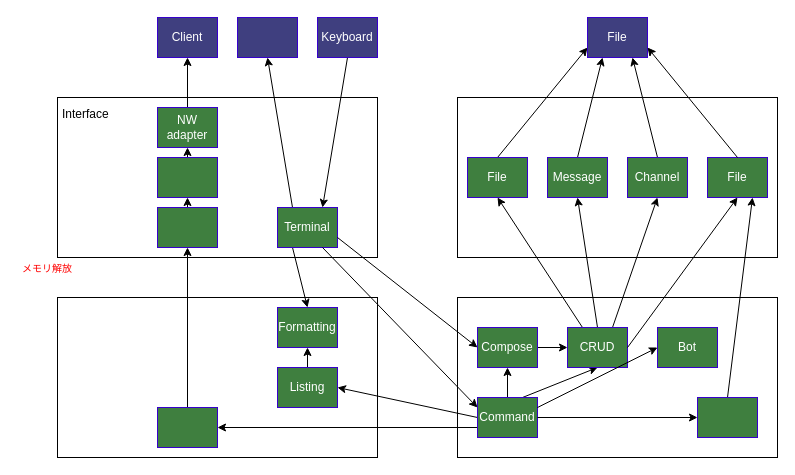
The diagram is 795 pixels wide and 475 high, and some of its shapes have lost their labels. Each missing label, with the box of its shape:
Auth: (696, 396, 758, 438)
Data: (456, 96, 778, 258)
Display: (236, 16, 298, 58)
Function: (456, 296, 778, 458)
Multiplex I/O: (156, 206, 218, 248)
Presentation: (56, 296, 378, 458)
Protocol: (156, 406, 218, 448)
TCP/IP socket: (156, 156, 218, 198)
